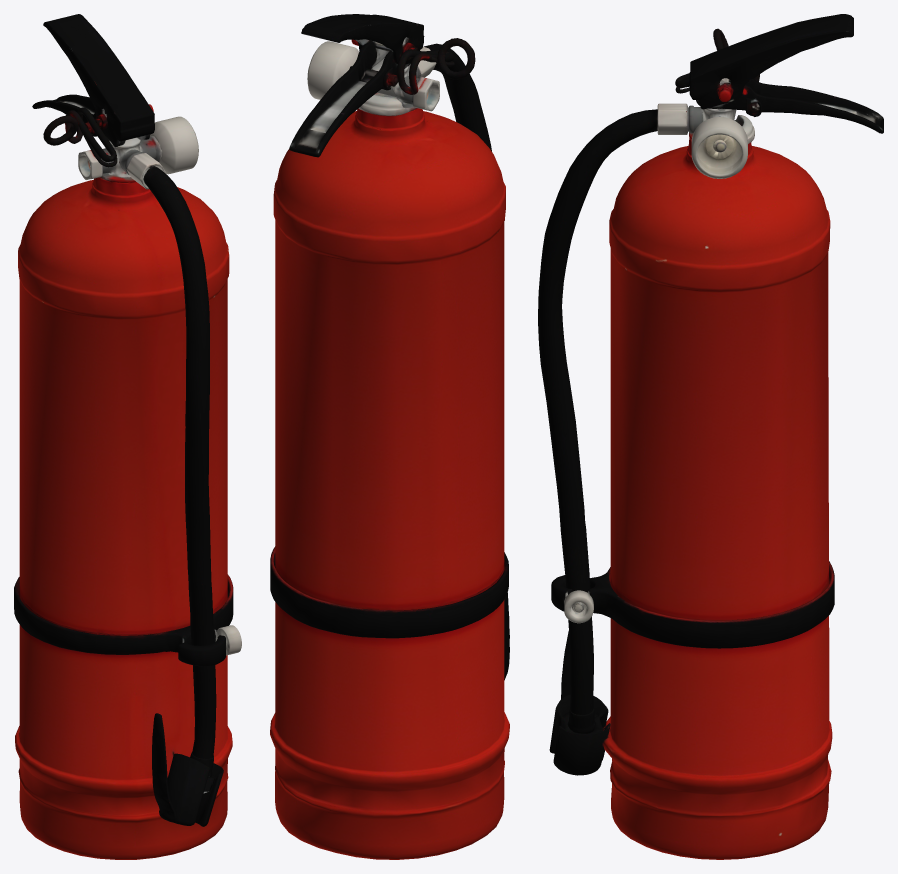
The model's file is fire_extinguisher.glb.
3 renders of one model, left to right at view 1: azimuth 30°, elevation 25°; view 2: azimuth 150°, elevation 25°; view 3: azimuth 270°, elevation 25°, orthographic. The views are drawn at different scales.
Parts seen in each view (by area): view 1: tripo_node_05b64099-76c1-4fdc-bb2c-3c0825b4d1b9; view 2: tripo_node_05b64099-76c1-4fdc-bb2c-3c0825b4d1b9; view 3: tripo_node_05b64099-76c1-4fdc-bb2c-3c0825b4d1b9.
Part boxes in pixels (left/top/right/bottom): tripo_node_05b64099-76c1-4fdc-bb2c-3c0825b4d1b9: left=14, top=14, right=241, bottom=859; tripo_node_05b64099-76c1-4fdc-bb2c-3c0825b4d1b9: left=270, top=14, right=509, bottom=859; tripo_node_05b64099-76c1-4fdc-bb2c-3c0825b4d1b9: left=538, top=14, right=883, bottom=859.
Size of the model in its own units: 0.2612 by 0.9995 by 0.394.
1 material, 1 textured.
